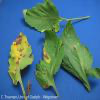Tomato Early blight leaf: (61, 19, 98, 96), (35, 29, 64, 92), (17, 1, 64, 35), (7, 31, 33, 90)
